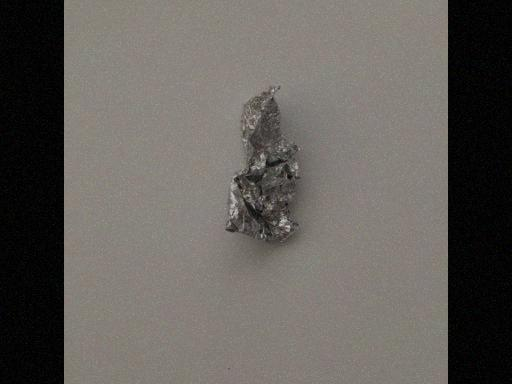trash: (224, 83, 302, 243)
